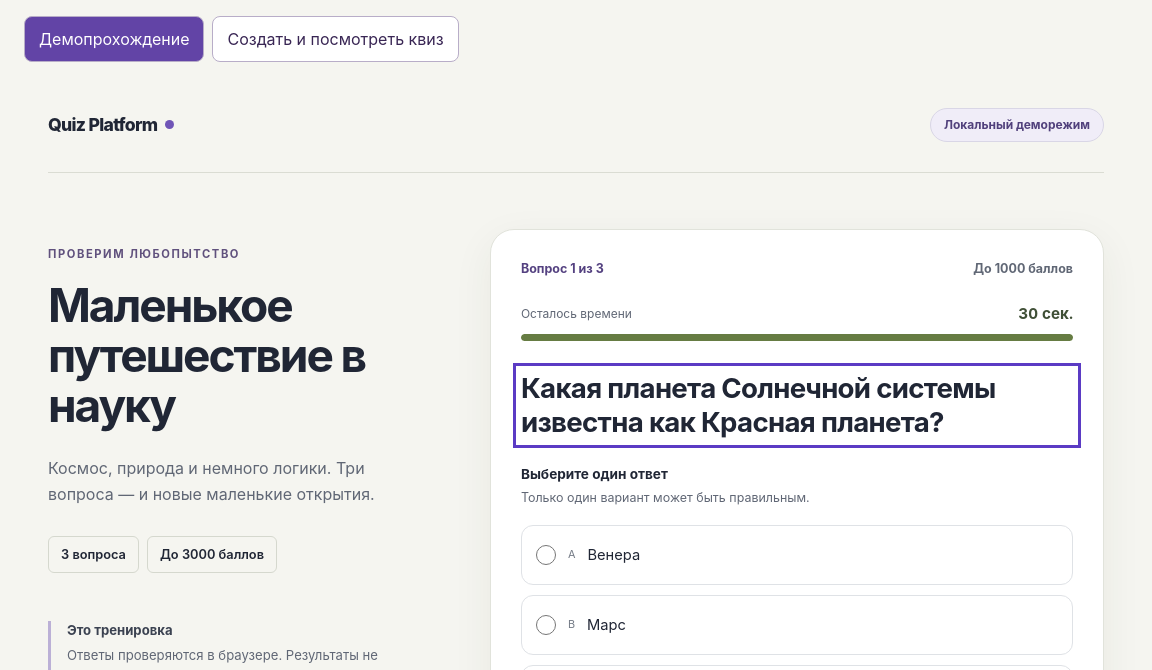
it: QuizWorkspace › keeps the demo available and switches back
The width and height of the screenshot is (1152, 670).
Click the button "Создать и посмотреть квиз".
click(336, 39)  # box [212,16,459,62]
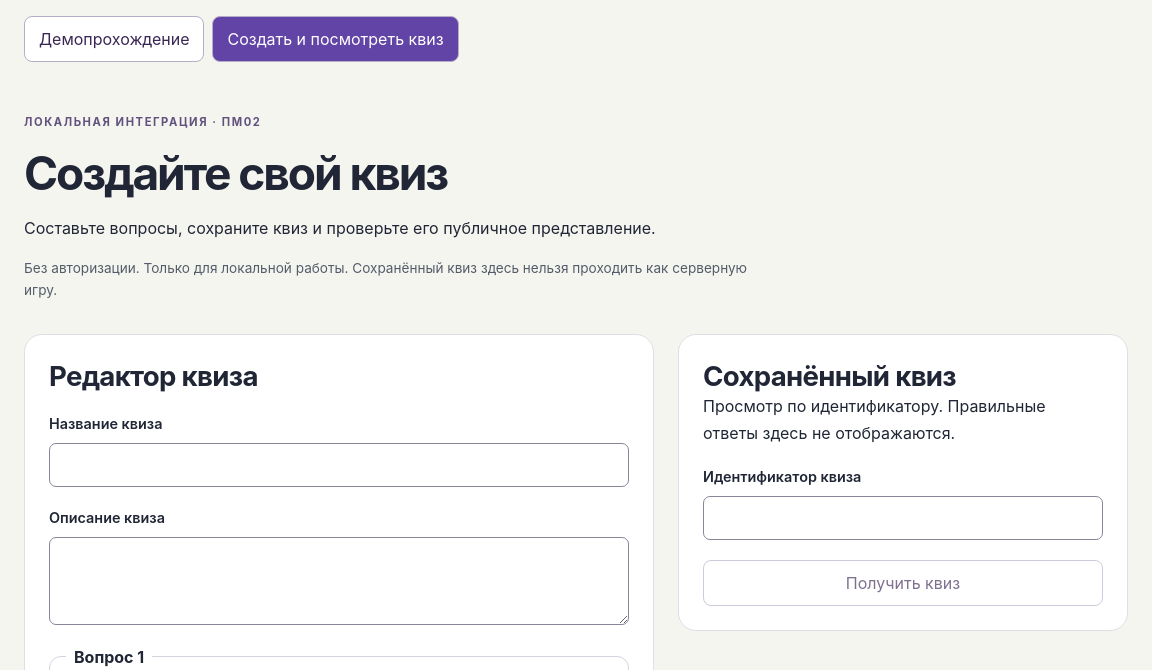
Click the button "Демопрохождение".
click(114, 39)  # box [24,16,204,62]
(page scrolled)
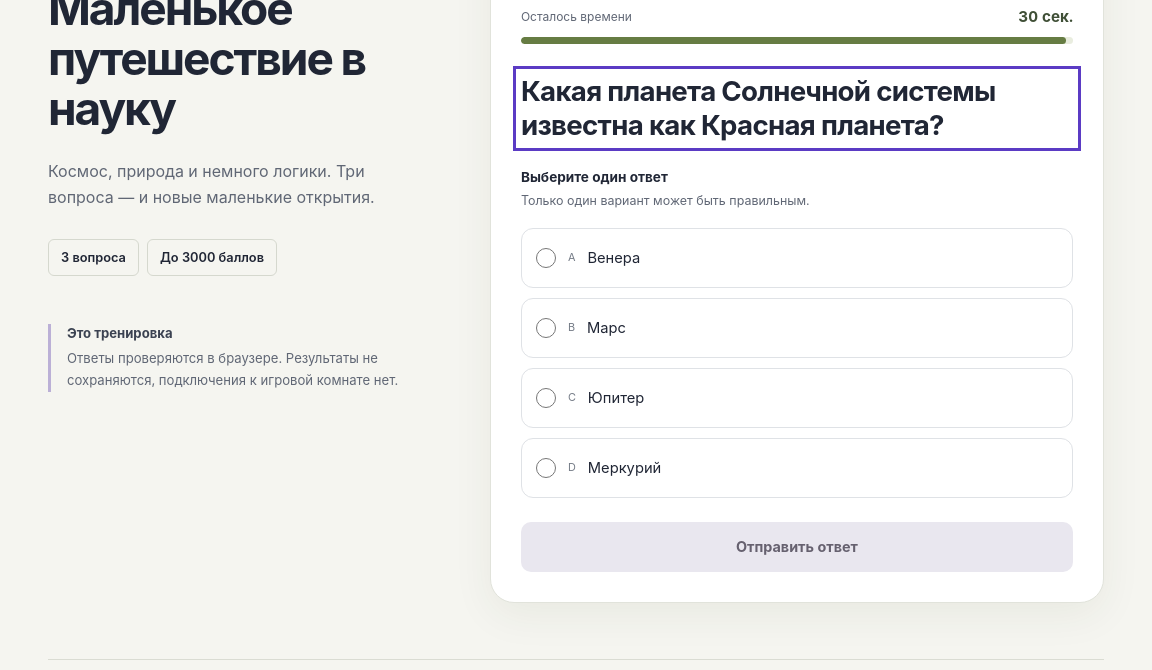
Check: the button "Отправить ответ" is shown, box [521,522,1073,572]
